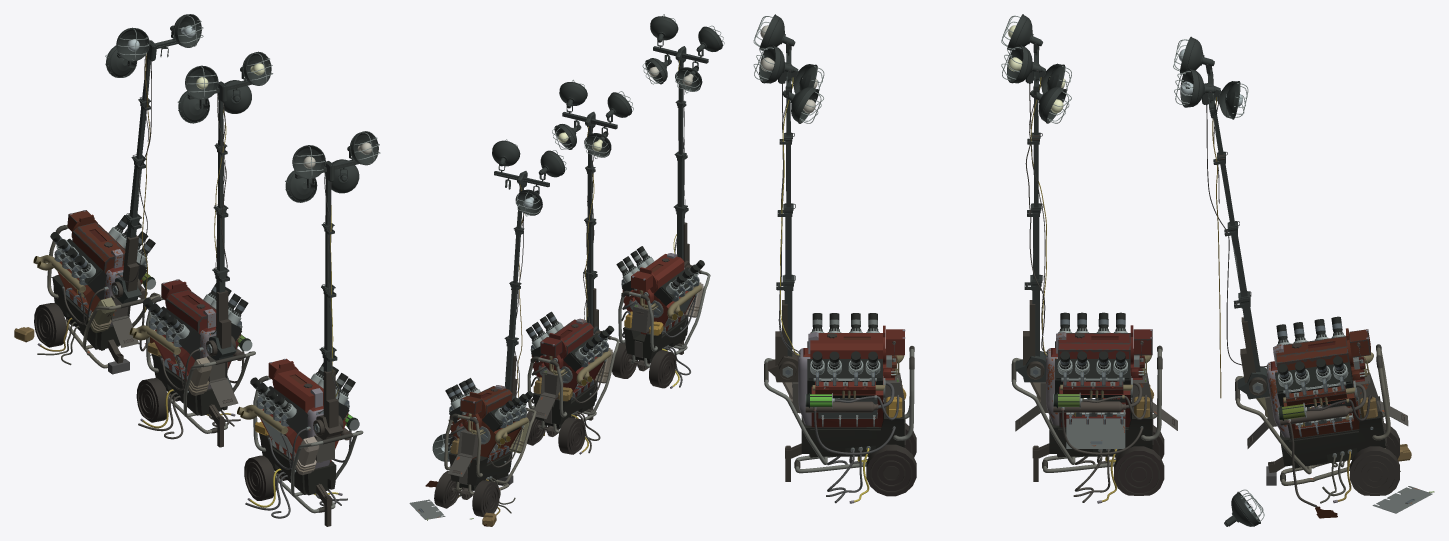
File: Генератор дбд1.fbx
The picture shows the model from 3 angles, left to right: view 1: azimuth 30°, elevation 25°; view 2: azimuth 150°, elevation 25°; view 3: azimuth 270°, elevation 25°; orthographic projection. The views are drawn at different scales.
Parts seen in each view (by area): view 1: Sphere.014, Sphere.023, Sphere.020, Cylinder.024, Cube.064, Sphere.011, Cube.099, Circle.055, Circle.145, Circle.075, Cube.056, Cube.043 (+26 smaller); view 2: Sphere.014, Sphere.020, Cylinder.024, Sphere.023, Cube.064, Cube.099, Sphere.011, Circle.145, Circle.075, Circle.085, Circle.084, Circle.055 (+16 smaller); view 3: Sphere.014, Cube.064, Cube.099, Cylinder.024, Sphere.023, Sphere.020, Circle.055, Circle.145, Circle.075, Cube.056, Sphere.011, Circle.085 (+14 smaller).
Boxes of the visible parts, bbox=[...] form: Sphere.014: bbox=[285, 131, 380, 439]; Sphere.023: bbox=[187, 69, 251, 360]; Sphere.020: bbox=[177, 51, 273, 123]; Cylinder.024: bbox=[111, 29, 177, 303]; Cube.064: bbox=[57, 210, 144, 313]; Sphere.011: bbox=[105, 14, 203, 77]; Cube.099: bbox=[152, 279, 240, 381]; Circle.055: bbox=[50, 215, 155, 299]; Circle.145: bbox=[143, 283, 248, 360]; Circle.075: bbox=[250, 362, 355, 439]; Cube.056: bbox=[259, 433, 336, 495]; Cube.043: bbox=[273, 369, 323, 413]; Sphere.014: bbox=[642, 14, 724, 268]; Sphere.020: bbox=[552, 79, 633, 158]; Cylinder.024: bbox=[494, 161, 549, 399]; Sphere.023: bbox=[562, 103, 617, 334]; Cube.064: bbox=[449, 386, 521, 463]; Cube.099: bbox=[531, 319, 603, 399]; Sphere.011: bbox=[492, 139, 566, 216]; Circle.145: bbox=[526, 311, 614, 371]; Circle.075: bbox=[616, 246, 704, 306]; Circle.085: bbox=[434, 471, 499, 516]; Circle.084: bbox=[612, 343, 676, 388]; Circle.055: bbox=[445, 378, 533, 431]; Sphere.014: bbox=[753, 14, 824, 382]; Cube.064: bbox=[1275, 328, 1370, 438]; Cube.099: bbox=[1058, 325, 1152, 427]; Cylinder.024: bbox=[1201, 63, 1269, 399]; Sphere.023: bbox=[1015, 42, 1046, 382]; Sphere.020: bbox=[1001, 14, 1071, 123]; Circle.055: bbox=[1275, 316, 1353, 406]; Circle.145: bbox=[1055, 312, 1130, 394]; Circle.075: bbox=[807, 313, 882, 394]; Cube.056: bbox=[801, 399, 904, 457]; Sphere.011: bbox=[1173, 36, 1248, 119]; Circle.085: bbox=[1350, 423, 1399, 495].
Size of the model in its own units: 118 by 317 by 434.
